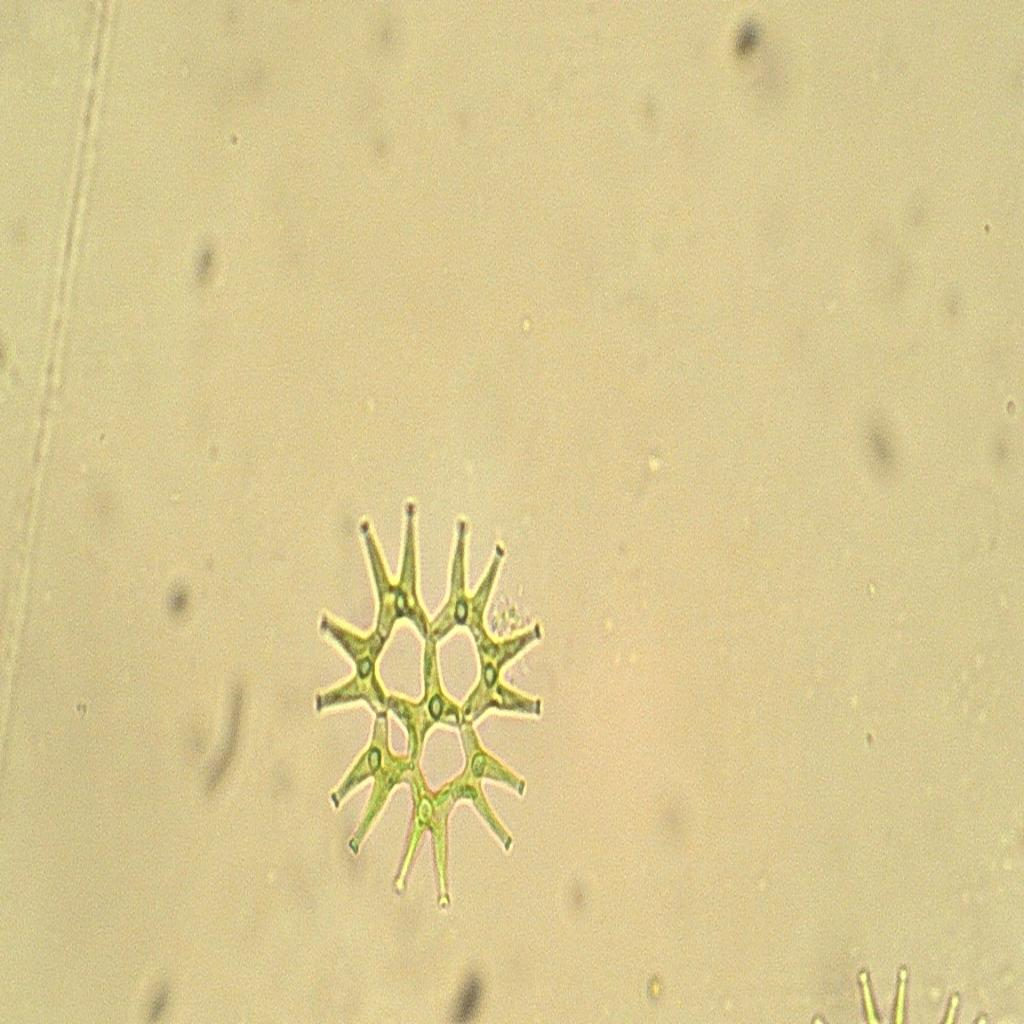Pediastrum_75T: (292, 485, 566, 916)
